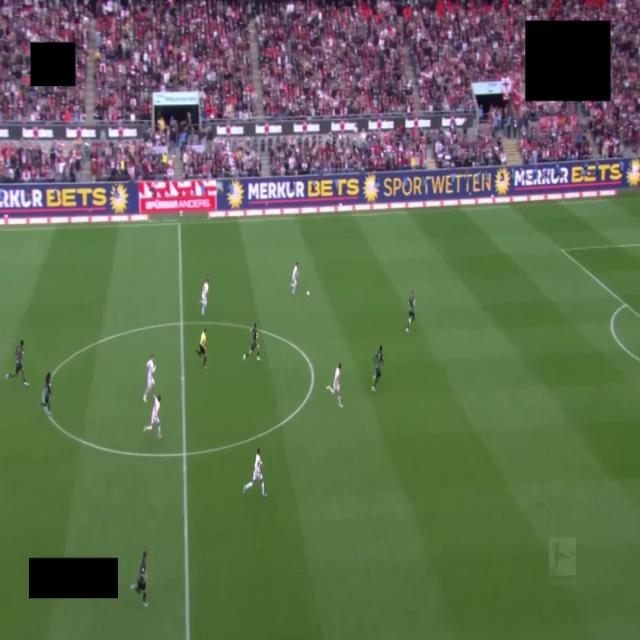ball: (307, 291, 309, 295)
player: (243, 448, 266, 497), (5, 341, 28, 386), (131, 552, 147, 607), (144, 395, 161, 438), (327, 363, 342, 407), (243, 323, 260, 360), (143, 354, 155, 402), (372, 345, 383, 391), (40, 373, 51, 415), (406, 291, 414, 332), (201, 279, 209, 316), (291, 262, 298, 294)
referee: (197, 328, 206, 368)
